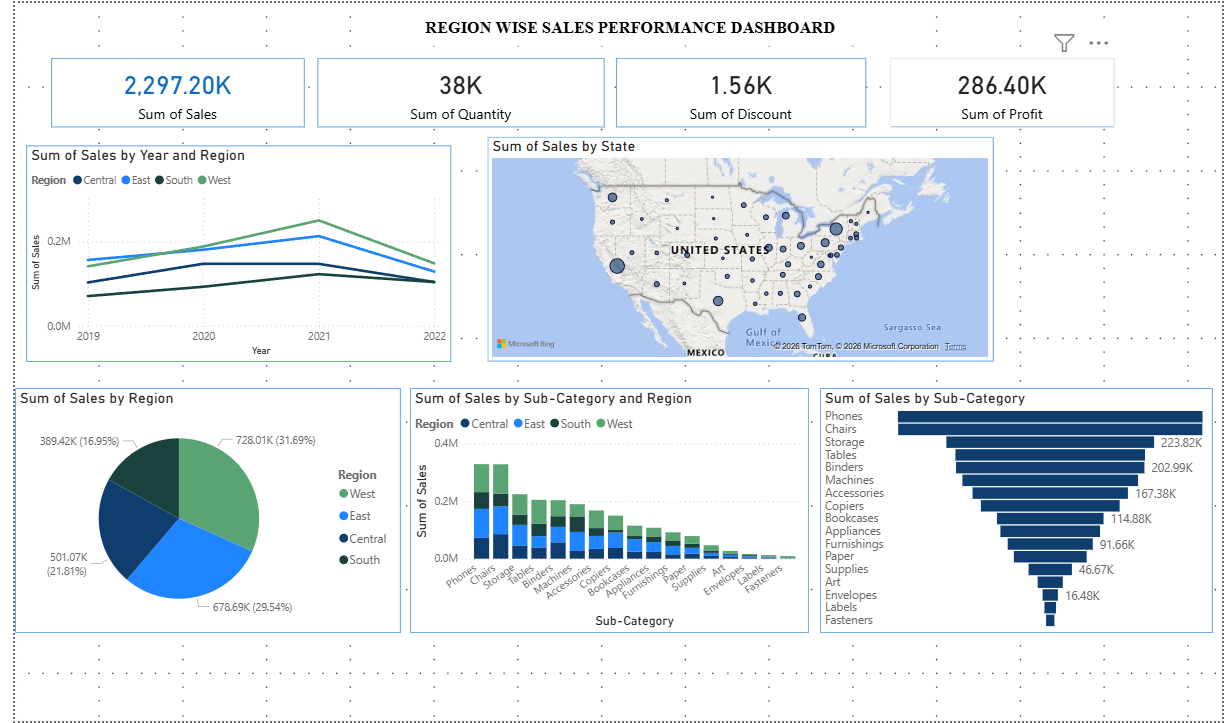

This screenshot's page, from the dashboard's own definition file:
{"tool":"powerbi","page":{"name":"Page 1","canvas":[1380,820],"ordinal":0},"visuals":[{"type":"lineChart","fields":{"Category":["Orders.Order Date.Variation.Date Hierarchy.Year","Orders.Order Date.Variation.Date Hierarchy.Quarter","Orders.Order Date.Variation.Date Hierarchy.Month","Orders.Order Date.Variation.Date Hierarchy.Day"],"Y":["Sum(Orders.Sales)"],"Series":["Orders.Region"]},"box":[12.9,162.9,485.7,247.1],"z":0},{"type":"pieChart","fields":{"Category":["Orders.Region"],"Y":["Sum(Orders.Sales)"]},"box":[0,440.5,440.5,279.9],"z":1000},{"type":"map","fields":{"Category":["Orders.State"],"Size":["Sum(Orders.Sales)"]},"box":[540,152.9,578.6,257.1],"z":3000},{"type":"columnChart","fields":{"Category":["Orders.Sub-Category"],"Y":["Sum(Orders.Sales)"],"Series":["Orders.Region"]},"box":[440,440,455.7,280],"z":4000},{"type":"card","fields":{"Values":["Sum(Orders.Sales)"]},"box":[41.2,63.1,289.5,79.6],"z":5000},{"type":"card","fields":{"Values":["Sum(Orders.Discount)"]},"box":[687.5,63.1,285.4,79.6],"z":6000},{"type":"card","fields":{"Values":["Sum(Orders.Quantity)"]},"box":[345.8,63.1,328,79.6],"z":7000},{"type":"card","fields":{"Values":["Sum(Orders.Profit)"]},"box":[1000.3,63.1,256.6,79.6],"z":8000},{"type":"textbox","box":[432.2,12.3,540.7,35.7],"z":9000},{"type":"funnel","fields":{"Category":["Orders.Sub-Category"],"Y":["Sum(Orders.Sales)"]},"box":[904.3,440,448.6,280],"z":10000}]}

Visuals, with their boxes in screenshot pixels (x1, y1, x2, y2), scaled from the page's 1380x820 canvas onto the 1227x723 screenshot:
lineChart - Orders.Order Date.Variation.Date Hierarchy.Year x Orders.Order Date.Variation.Date Hierarchy.Quarter: box=[11, 144, 443, 362]
pieChart - Orders.Region x Sum(Orders.Sales): box=[0, 388, 392, 635]
map - Orders.State x Sum(Orders.Sales): box=[480, 135, 995, 362]
columnChart - Orders.Sub-Category x Sum(Orders.Sales): box=[391, 388, 796, 635]
card - Sum(Orders.Sales): box=[37, 56, 294, 126]
card - Sum(Orders.Discount): box=[611, 56, 865, 126]
card - Sum(Orders.Quantity): box=[307, 56, 599, 126]
card - Sum(Orders.Profit): box=[889, 56, 1118, 126]
textbox: box=[384, 11, 865, 42]
funnel - Orders.Sub-Category x Sum(Orders.Sales): box=[804, 388, 1203, 635]
